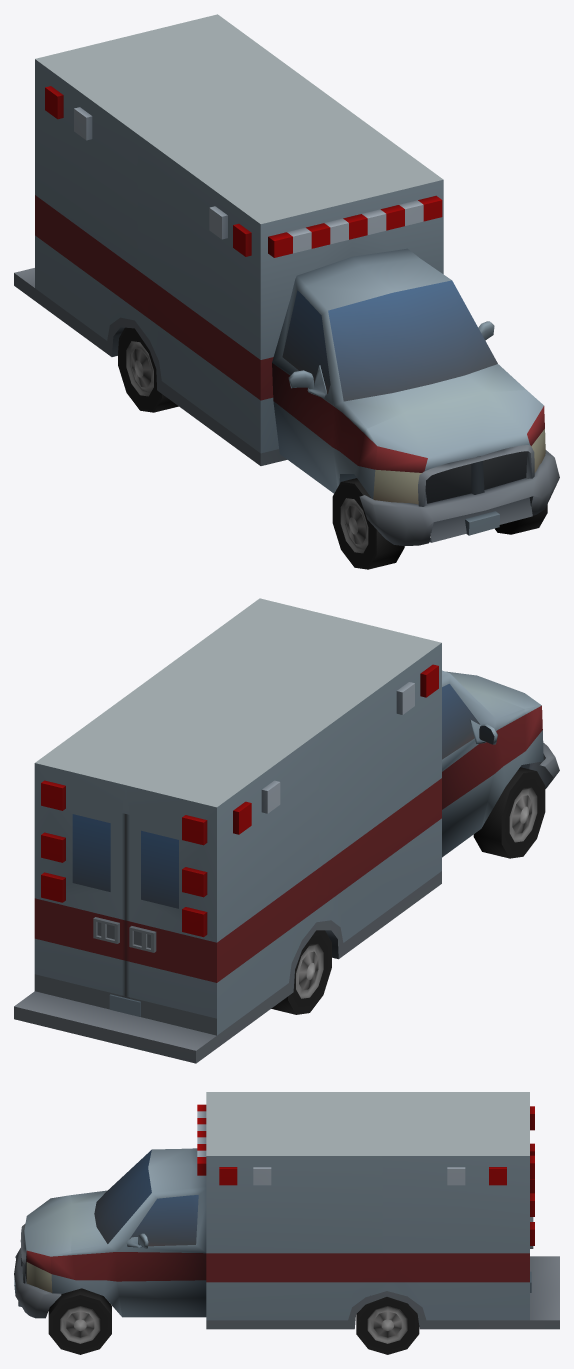
File: vehicles-trucks-vans-ambulance_v1.glb
3 views of the same model, one above another, from view 1: azimuth 30°, elevation 25°; view 2: azimuth 150°, elevation 25°; view 3: azimuth 270°, elevation 25° (orthographic). The views are drawn at different scales.
Visible parts, largest first — view 1: Ambulance.001, Ambulance; view 2: Ambulance.001, Ambulance; view 3: Ambulance.001, Ambulance.
Boxes of the visible parts, x1,y1,x2,y2 form: Ambulance.001: (35,14,547,569); Ambulance: (14,268,559,553); Ambulance.001: (34,598,545,1035); Ambulance: (14,684,559,1063); Ambulance.001: (14,1092,534,1354); Ambulance: (14,1149,559,1343).
Bounding box in the file's own units: 2.02 × 2.64 × 6.5.
